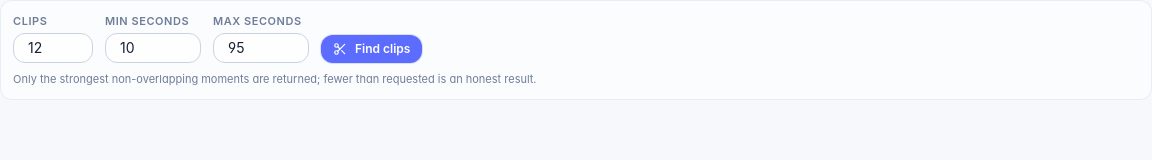
DiscoveryControls › refuses a reversed duration range instead of sending it
Replace the text in the number field named "Maximum clip duration" with "5" at {"x": 261, "y": 48}, box top-left (213, 33), bottom-right (309, 63)
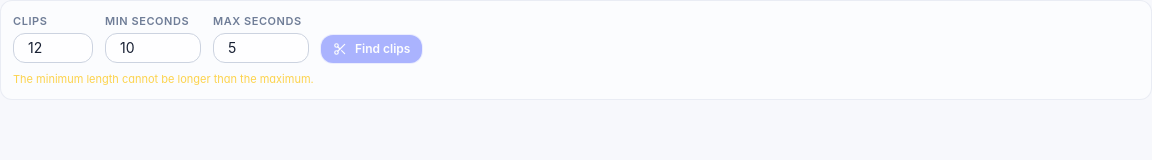
Expected: the text "The minimum length cannot be longer than the maximum." is shown, top-left (13, 72), bottom-right (314, 86)
Expected: the button "Find clips" is disabled, top-left (321, 35), bottom-right (422, 63)
